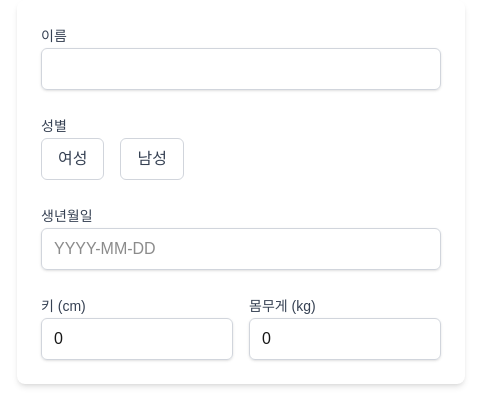
Test: BasicInfoForm › should automatically format numeric input like "20240919" into "2024-09-19"
The image size is (483, 405).
Type "20240919" into the field labelled "생년월일" at (241, 249), box [41, 228, 441, 270]
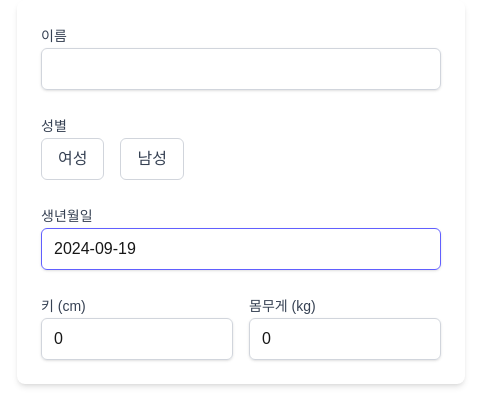
Result: the field labelled "생년월일" holds "2024-09-19" at [41, 228, 441, 270]
